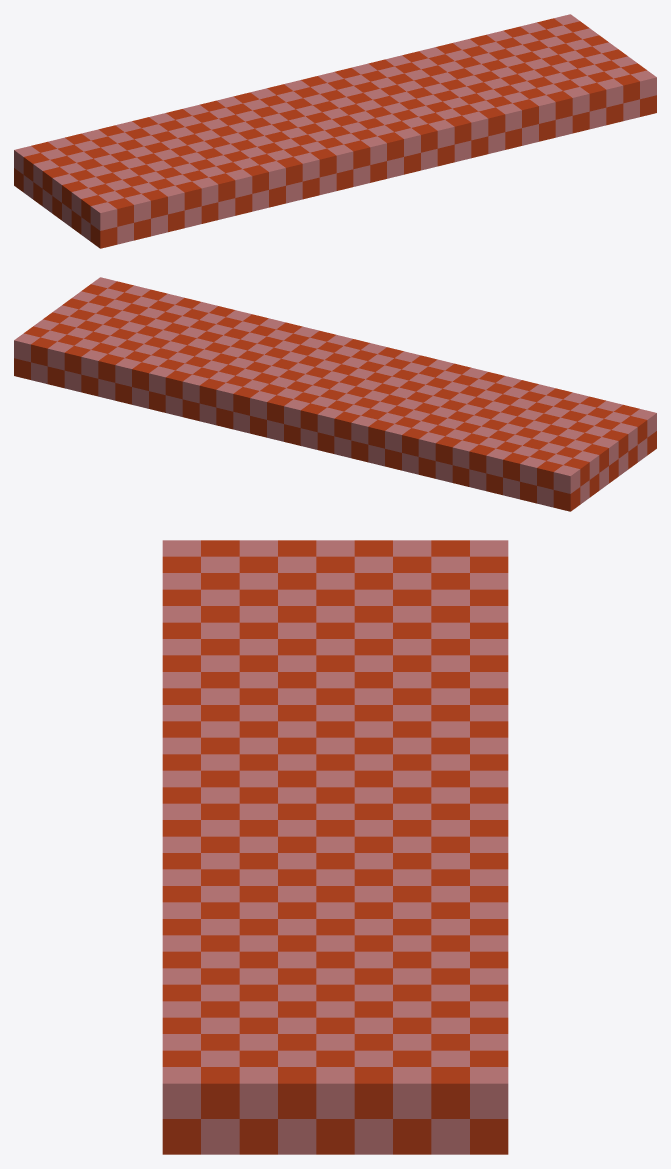
The model's file is adultshower_tile_big.fbx.
3 renders of one model, top to bottom at view 1: azimuth 30°, elevation 25°; view 2: azimuth 150°, elevation 25°; view 3: azimuth 270°, elevation 25°, orthographic. The views are drawn at different scales.
Parts seen in each view (by area): view 1: Box001; view 2: Box001; view 3: Box001.
Boxes of the visible parts, left/top/right/bottom form: Box001: left=14, top=14, right=656, bottom=248; Box001: left=14, top=277, right=656, bottom=511; Box001: left=162, top=540, right=508, bottom=1154.
Bounding box in the file's own units: 130 × 7.94 × 34.88.
